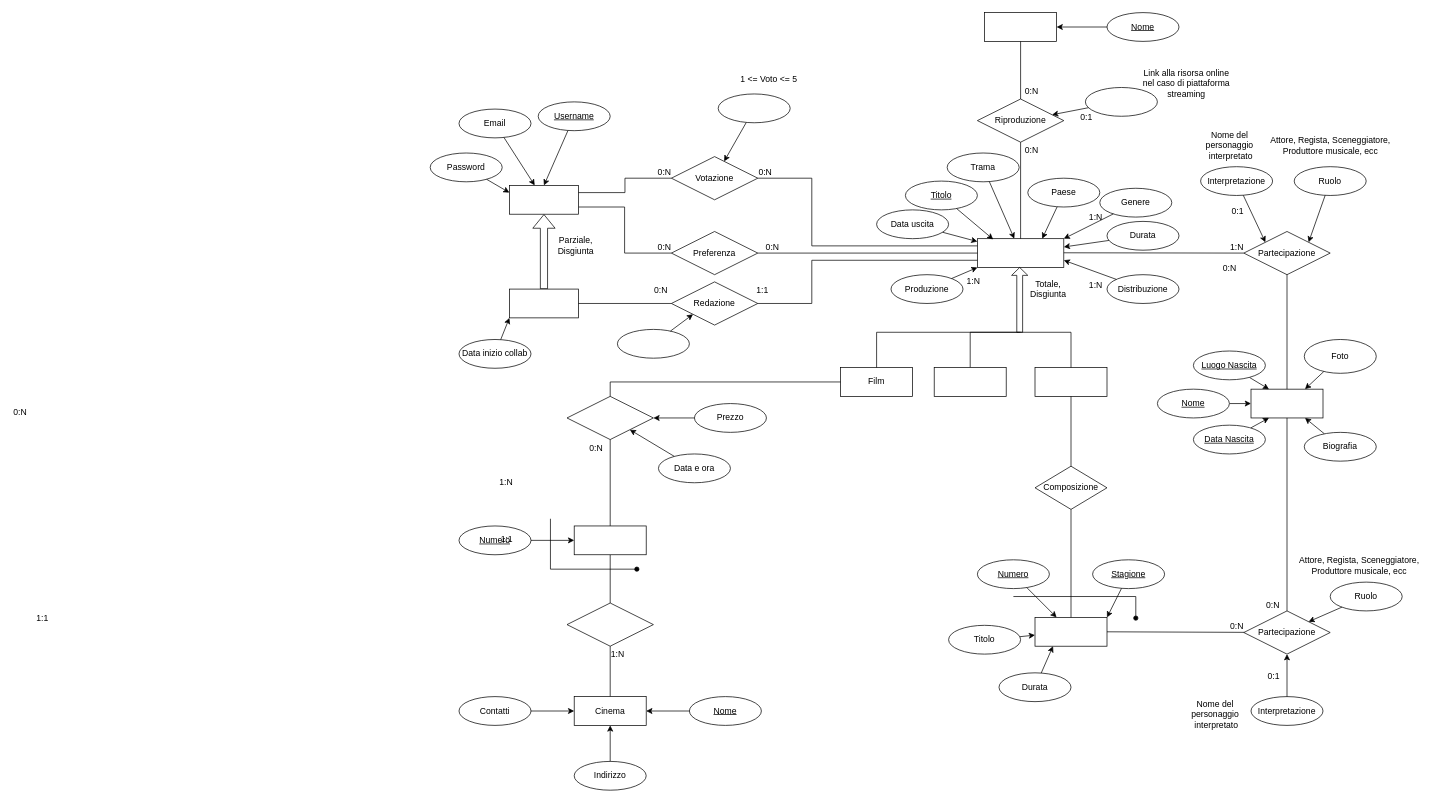
Some shapes in this 1436 by 803 pixel diagram are drawn without their labels. The shapes that lost their labels are listed below. From the top down, each one's centre as x and y in pixels, then its label:
At point 1020,26: "Piattaforma".
At point 753,108: "Voto".
At point 1121,101: "Hyperlink".
At point 544,199: "Utente".
At point 1020,252: "Contenuto".
At point 544,303: "Redattore".
At point 653,343: "Data inserimento".
At point 969,381: "Programma".
At point 1070,381: "Serie".
At point 609,418: "Proiezione".
At point 1286,403: "Personaggio".
At point 609,540: "Sala".
At point 609,624: "Afferenza".
At point 1070,631: "Episodio".
